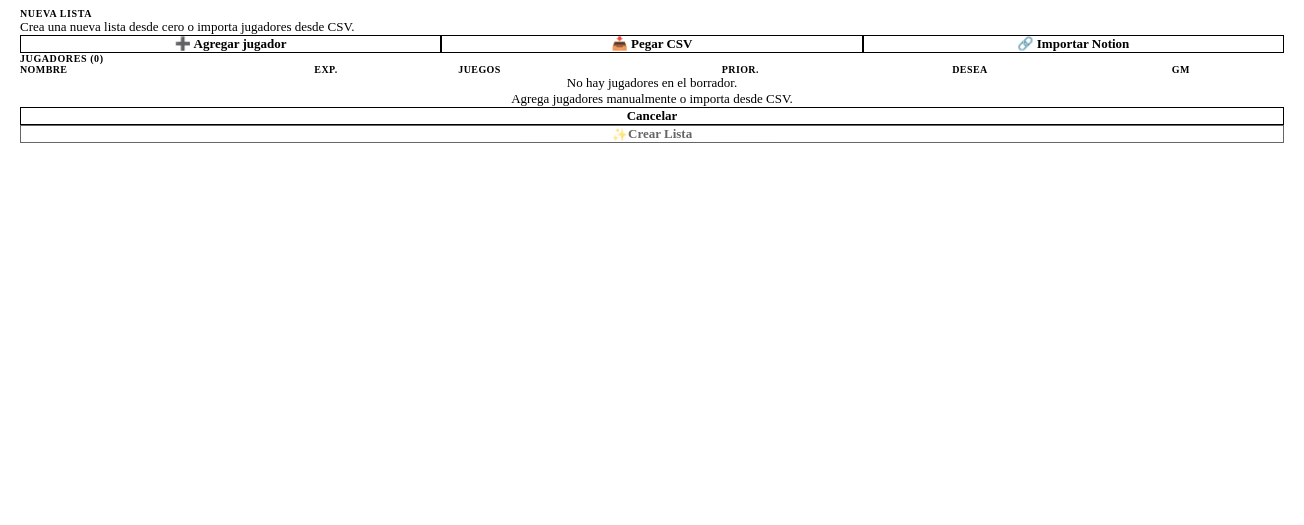
it: SnapshotDraft › opens CSV modal when paste CSV button is clicked
Step 1. Click the button "📥 Pegar CSV" → (652, 44), box x1=441 y1=35 x2=863 y2=53
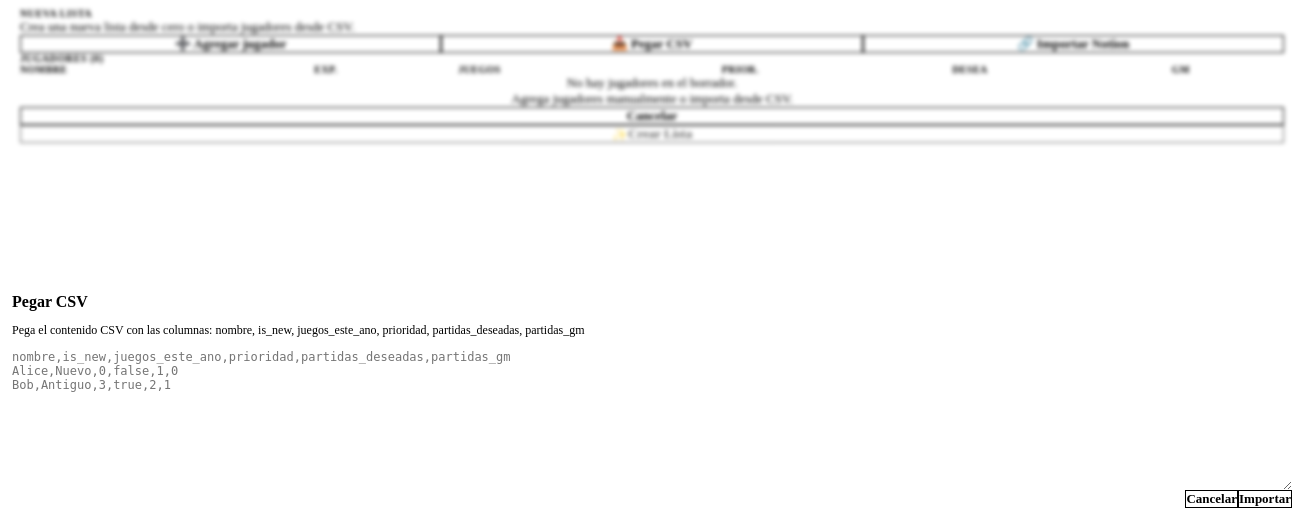
Expected: the text "Pegar CSV" is shown, x1=12 y1=292 x2=88 y2=310
Expected: the text box with placeholder "nombre,is_new" is shown, x1=12 y1=350 x2=1292 y2=490
